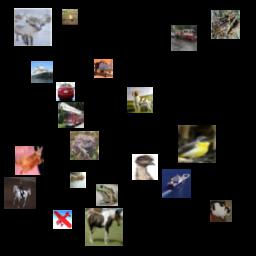airplane: (94, 59, 113, 78), (53, 210, 72, 229)
automobile: (56, 82, 75, 101)
bird: (178, 125, 216, 163), (132, 154, 158, 180), (62, 9, 78, 25)
cat: (15, 146, 44, 175), (210, 200, 232, 222)
deer: (14, 8, 52, 46)
dog: (127, 87, 153, 113), (70, 172, 86, 188)
frog: (211, 10, 240, 39), (70, 131, 99, 160), (96, 184, 118, 206)
ship: (162, 169, 191, 198), (31, 61, 53, 83)
truck: (171, 25, 197, 51), (58, 102, 84, 128)
